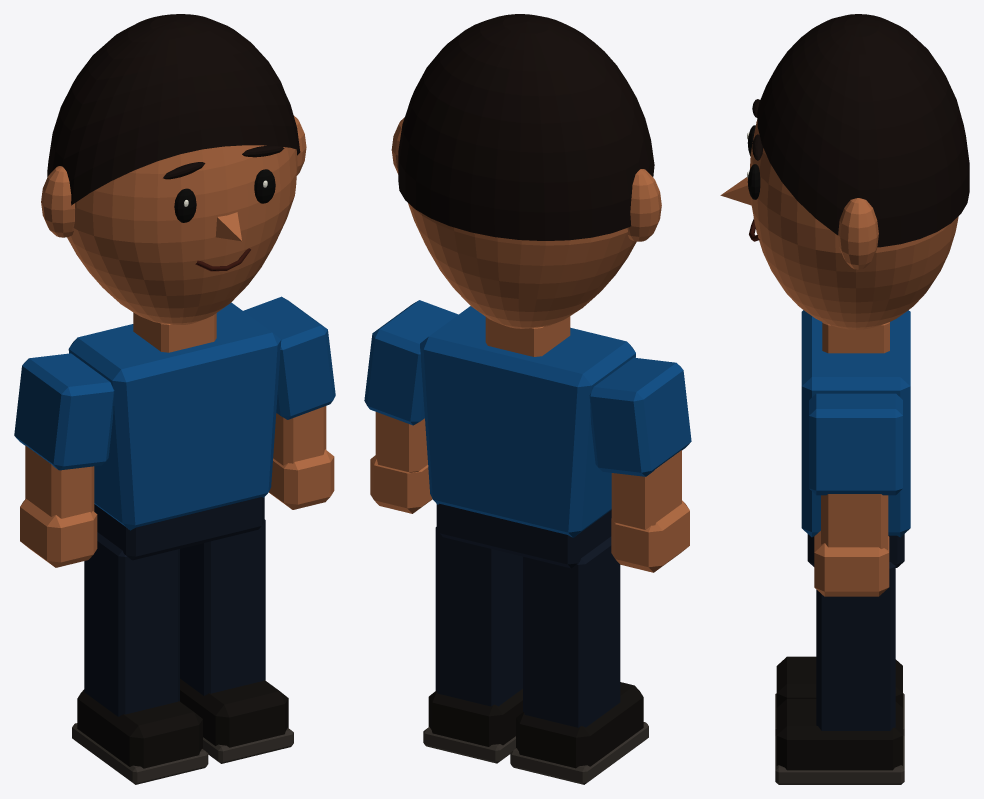
Rendered from avatar-mii-kenney-01.obj.
3 views of the same model, side by side, from view 1: azimuth 30°, elevation 25°; view 2: azimuth 150°, elevation 25°; view 3: azimuth 270°, elevation 25° (orthographic).
Visible parts, largest first — view 1: Corpo_01, Cabelo_01, Cabeca_01, Perna_L, Perna_R, Manga, Sapato_L, Manga.001, Quadril, Sapato_R, Mao, Antebraco (+9 smaller); view 2: Cabelo_01, Corpo_01, Perna_L, Cabeca_01, Perna_R, Manga, Manga.001, Quadril, Sapato_L, Sapato_R, Antebraco, Mao (+6 smaller); view 3: Cabelo_01, Cabeca_01, Perna_R, Corpo_01, Manga.001, Sapato_R, Mao.001, Antebraco.001, Orelha_R, Sola.001, Sapato_L, Pescoco (+2 smaller).
Boxes of the visible parts, <box> form: Corpo_01: <box>68,302,281,530</box>; Cabelo_01: <box>47,14,300,205</box>; Cabeca_01: <box>67,145,297,324</box>; Perna_L: <box>84,532,179,716</box>; Perna_R: <box>180,519,265,695</box>; Manga: <box>14,353,114,470</box>; Sapato_L: <box>77,689,202,768</box>; Manga.001: <box>243,296,335,419</box>; Quadril: <box>94,497,264,560</box>; Sapato_R: <box>180,679,288,747</box>; Mao: <box>20,499,97,567</box>; Antebraco: <box>25,445,94,518</box>; Cabelo_01: <box>398,14,654,240</box>; Corpo_01: <box>420,306,635,537</box>; Perna_L: <box>523,536,620,727</box>; Cabeca_01: <box>408,203,636,328</box>; Perna_R: <box>435,527,522,706</box>; Manga: <box>589,357,691,476</box>; Manga.001: <box>364,300,458,425</box>; Quadril: <box>436,503,611,568</box>; Sapato_L: <box>516,682,643,768</box>; Sapato_R: <box>428,689,522,746</box>; Antebraco: <box>611,450,681,529</box>; Mao: <box>611,500,689,572</box>; Cabelo_01: <box>757,14,969,247</box>; Cabeca_01: <box>750,120,958,329</box>; Perna_R: <box>816,562,895,730</box>; Corpo_01: <box>801,310,910,537</box>; Manga.001: <box>809,393,902,495</box>; Sapato_R: <box>776,699,902,770</box>; Mao.001: <box>814,531,889,596</box>; Antebraco.001: <box>821,494,888,549</box>; Orelha_R: <box>838,198,878,269</box>; Sola.001: <box>775,735,904,784</box>; Sapato_L: <box>776,656,902,707</box>; Pescoco: <box>822,322,889,353</box>.
Size of the model in its own units: 1.14 by 2.71 by 0.8483.
